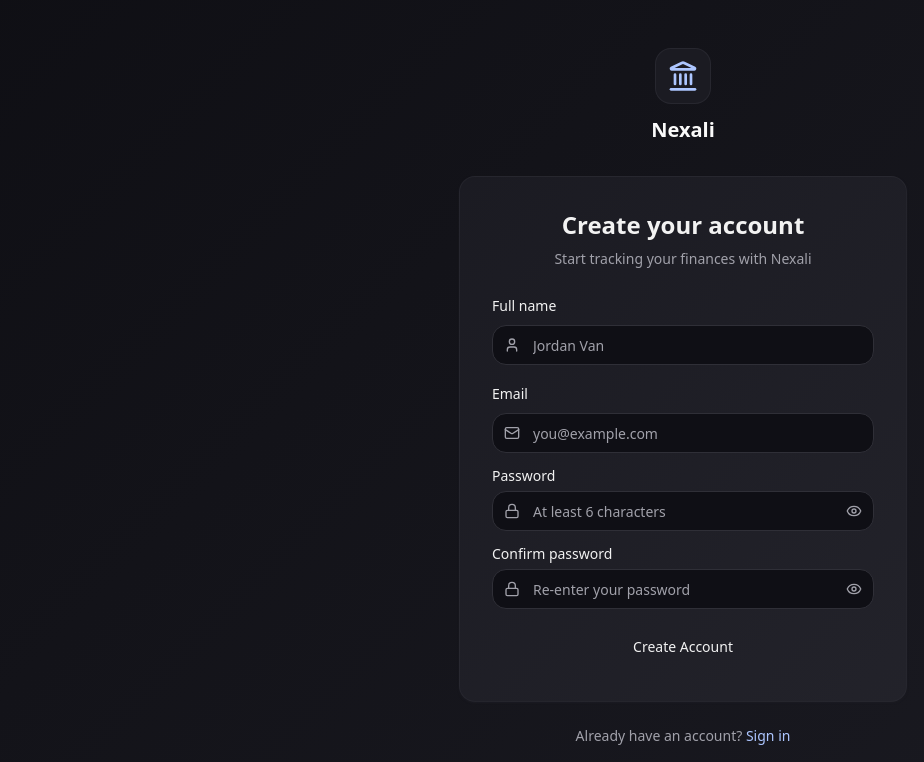
it: SignUp › disables the submit button while the request is pending
This screenshot has width=924, height=762.
Type "Jane Doe" into the field labelled "Full name" at point(683, 345), box [492, 325, 874, 365]
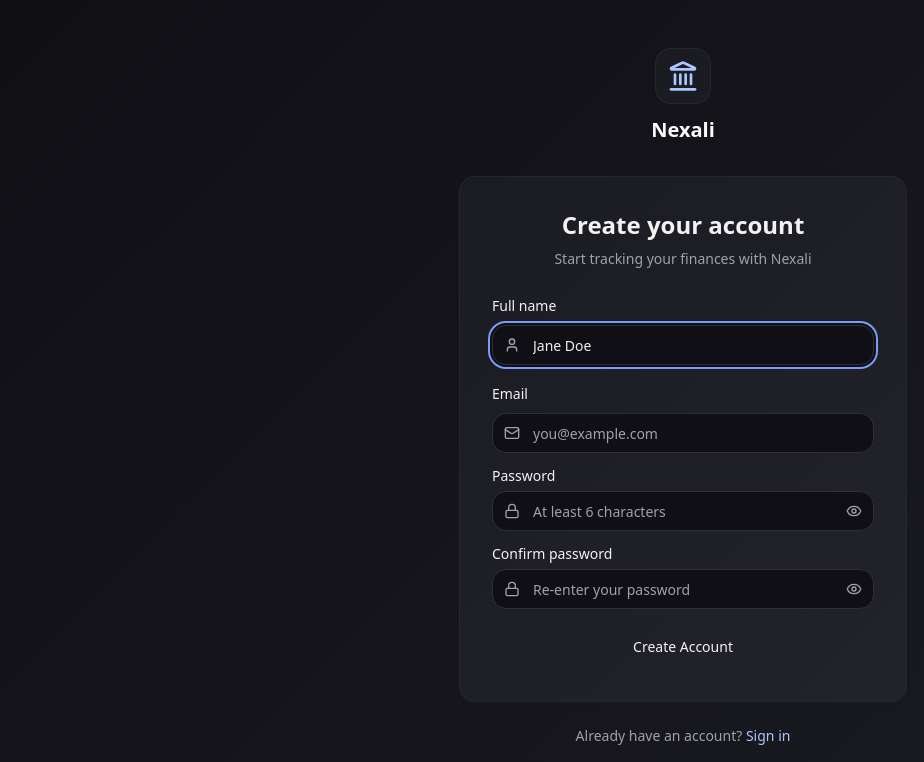
Type "jane@example.com" into the field labelled "Email" at point(683, 433), box [492, 413, 874, 453]
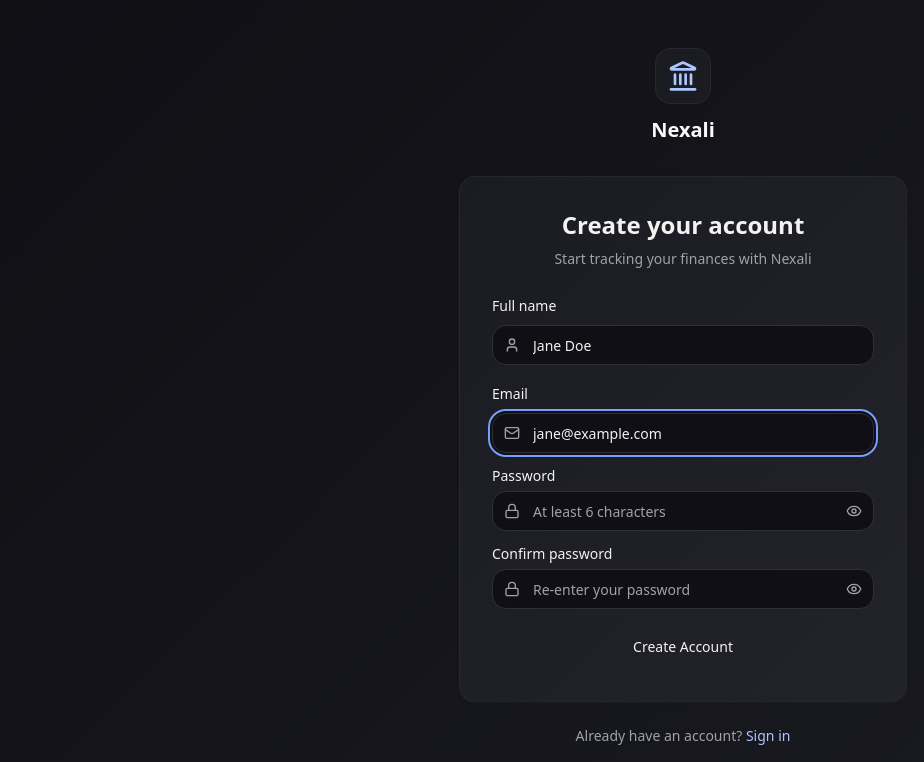
Type "hunter22" into the password field labelled "Password" at point(683, 511), box [492, 491, 874, 531]
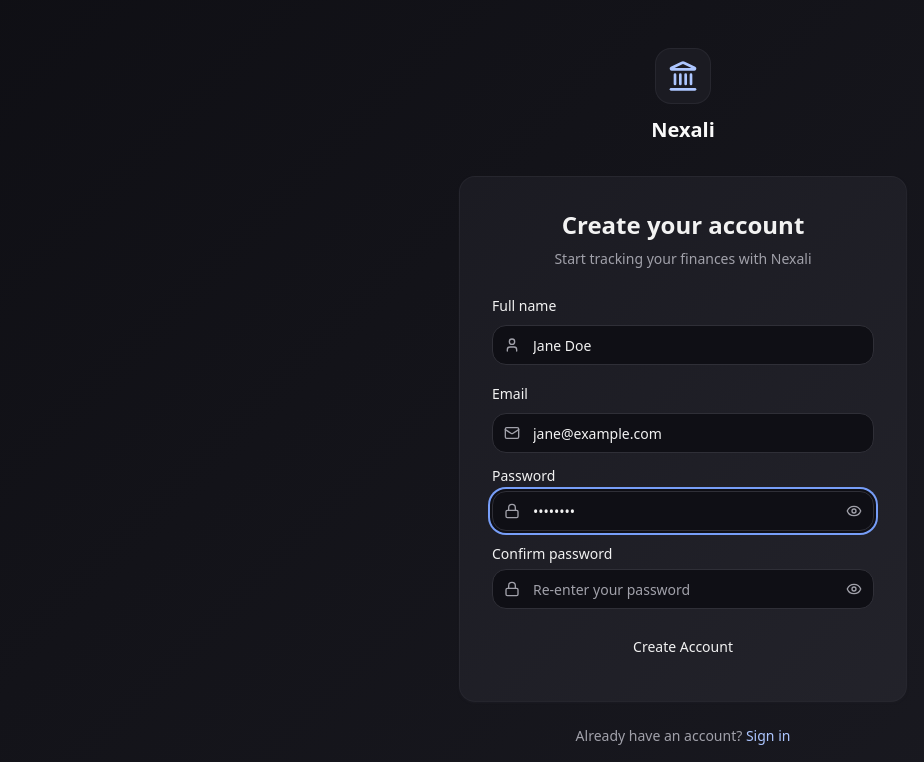
Type "hunter22" into the password field labelled "Confirm password" at point(683, 589), box [492, 569, 874, 609]
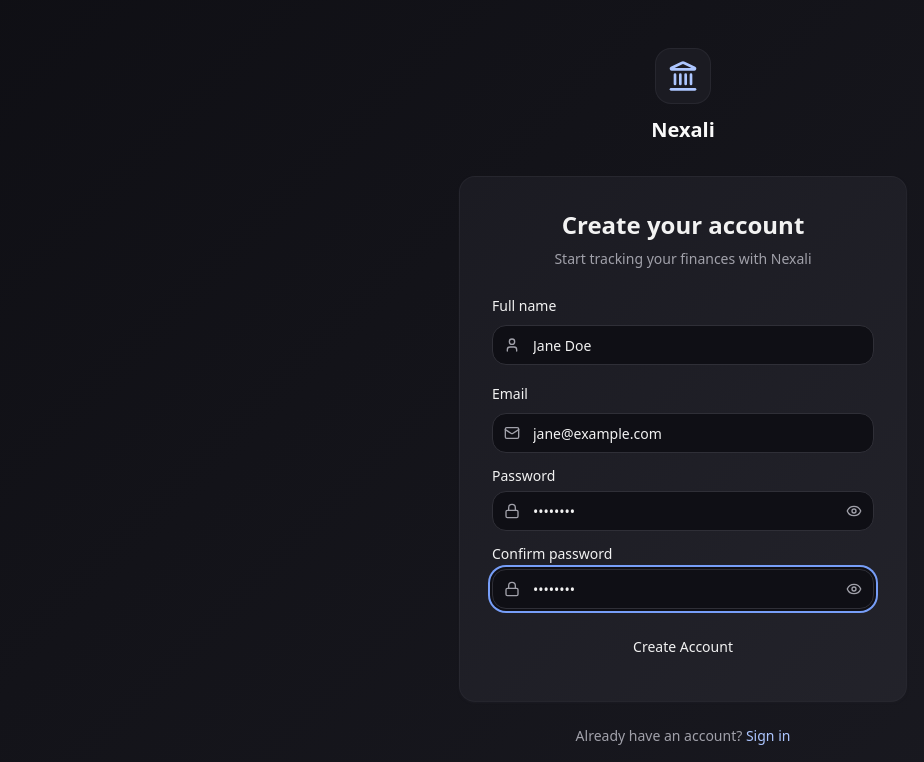
Click the button "Create Account" at point(683, 647), box [492, 625, 874, 669]
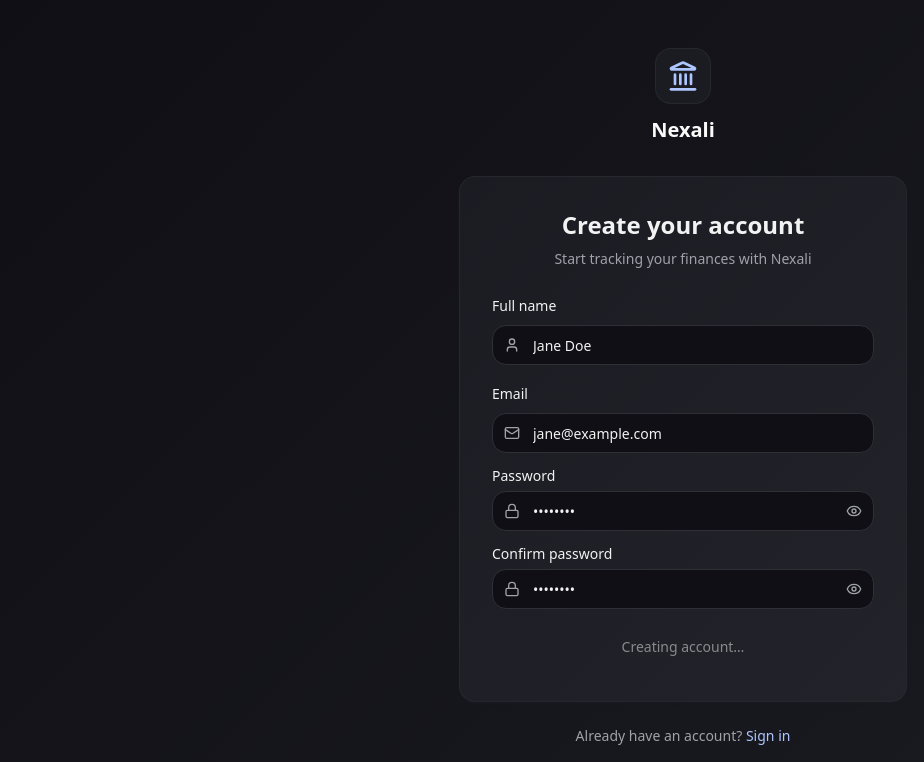
Expected: the button "Creating account…" is disabled, [492, 625, 874, 669]
